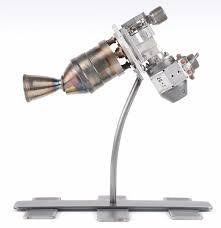thruster: (22, 73, 63, 103), (145, 5, 168, 28)
